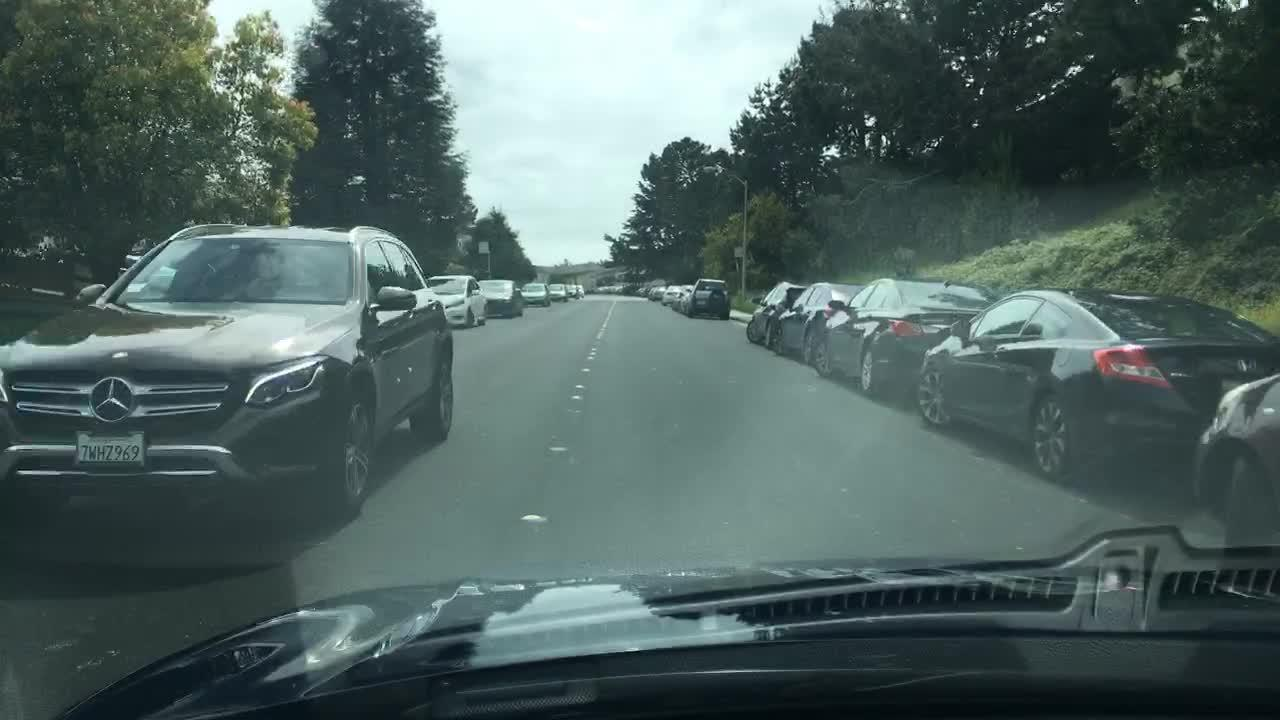Mercedes: (82, 373, 141, 430)
